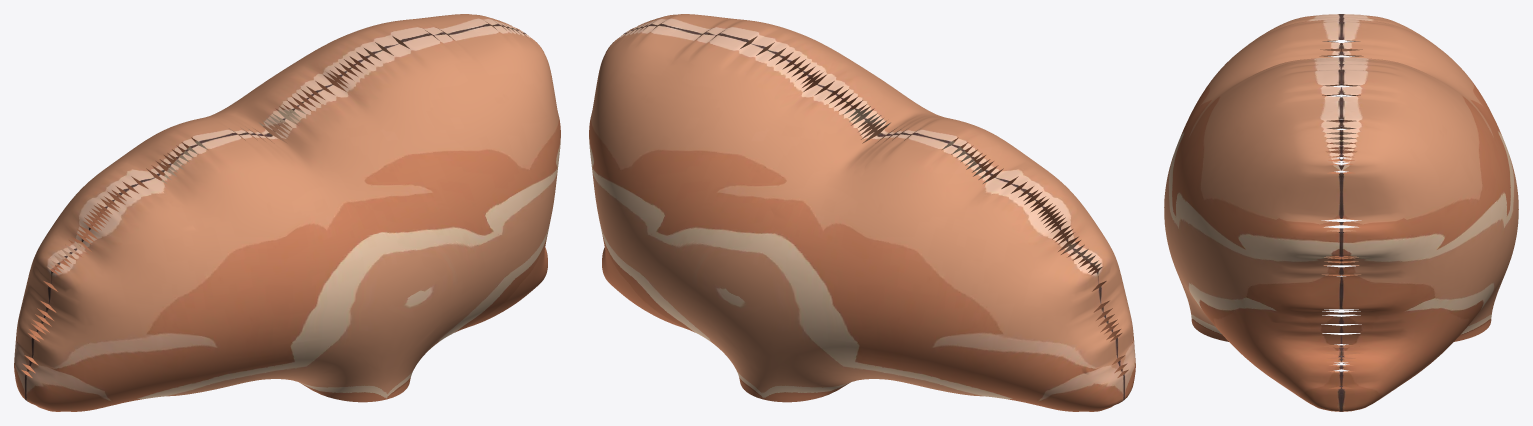
The model's file is sandstone_cliff.glb.
3 views of the same model, side by side, from view 1: azimuth 30°, elevation 25°; view 2: azimuth 150°, elevation 25°; view 3: azimuth 270°, elevation 25° (orthographic). The views are drawn at different scales.
Visible parts, largest first — view 1: sandstone_cliff; view 2: sandstone_cliff; view 3: sandstone_cliff.
Boxes of the visible parts, bbox=[...] form: sandstone_cliff: bbox=[14, 14, 560, 411]; sandstone_cliff: bbox=[589, 14, 1135, 411]; sandstone_cliff: bbox=[1164, 14, 1518, 411].
Size of the model in its own units: 0.989 by 0.5216 by 0.5661.
1 material, 1 textured.
